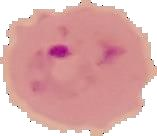parasitized: (5, 10, 147, 129), (28, 40, 93, 93), (90, 34, 134, 71)
